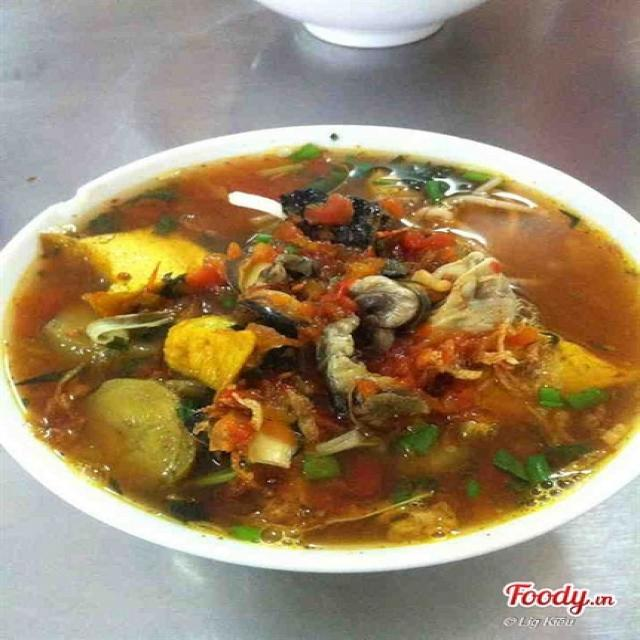面条主食: (15, 15, 619, 618)
